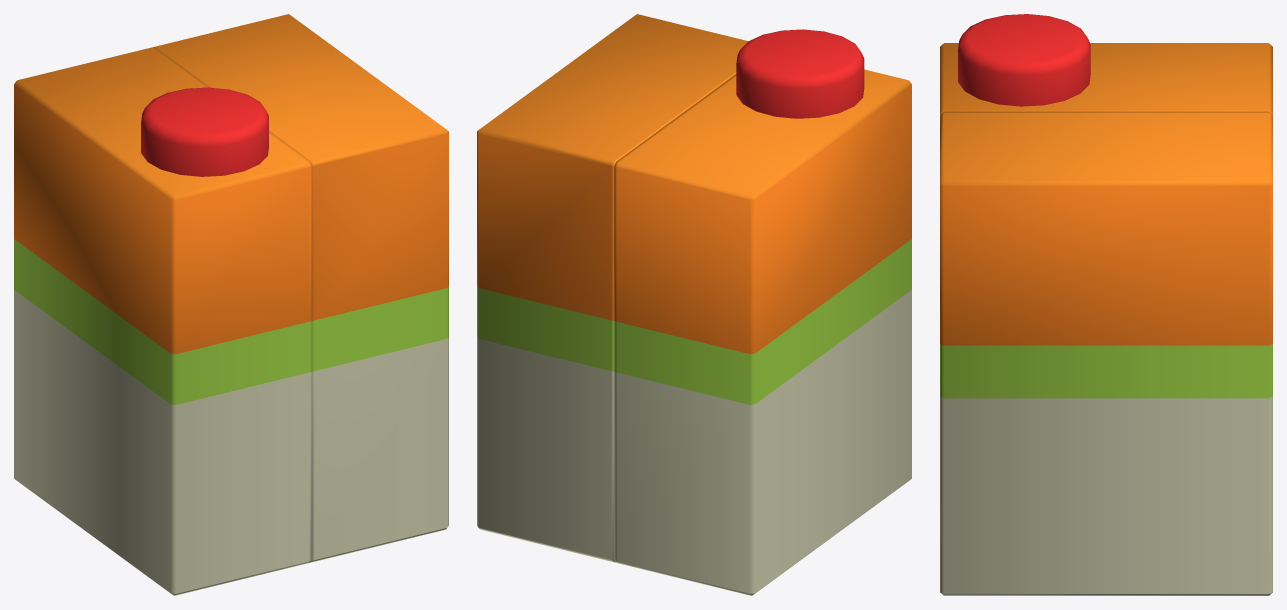
The model's file is SM_Juice_01a.fbx.
3 renders of one model, left to right at view 1: azimuth 30°, elevation 25°; view 2: azimuth 150°, elevation 25°; view 3: azimuth 270°, elevation 25°, orthographic. The views are drawn at different scales.
Visible parts, largest first — view 1: Juice_01.001, Juice_01; view 2: Juice_01.001, Juice_01; view 3: Juice_01, Juice_01.001.
Boxes of the visible parts, x1,y1,x2,y2 form: Juice_01.001: [14, 47, 311, 595]; Juice_01: [153, 14, 448, 562]; Juice_01.001: [614, 29, 911, 595]; Juice_01: [477, 14, 748, 562]; Juice_01: [940, 111, 1272, 595]; Juice_01.001: [940, 14, 1272, 114].
Bounding box in the file's own units: 16.66 × 25.17 × 16.66.
